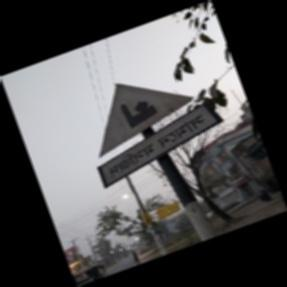Mosque in front: (97, 75, 229, 193)
